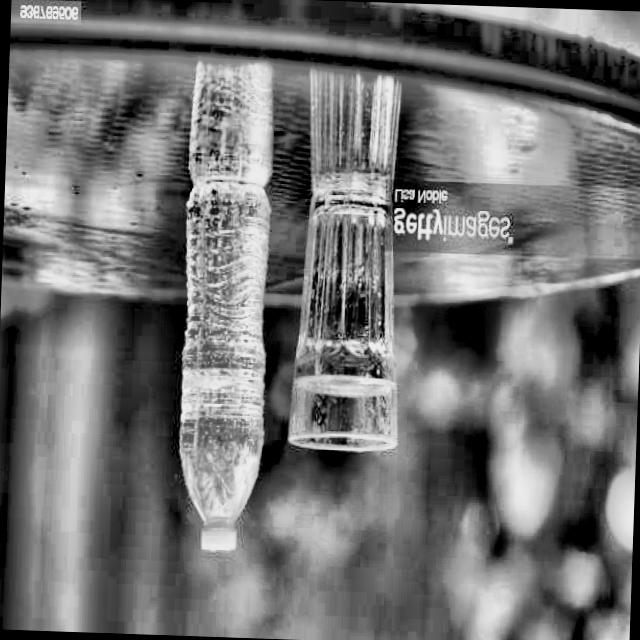waterbottle: (172, 176, 276, 564)
